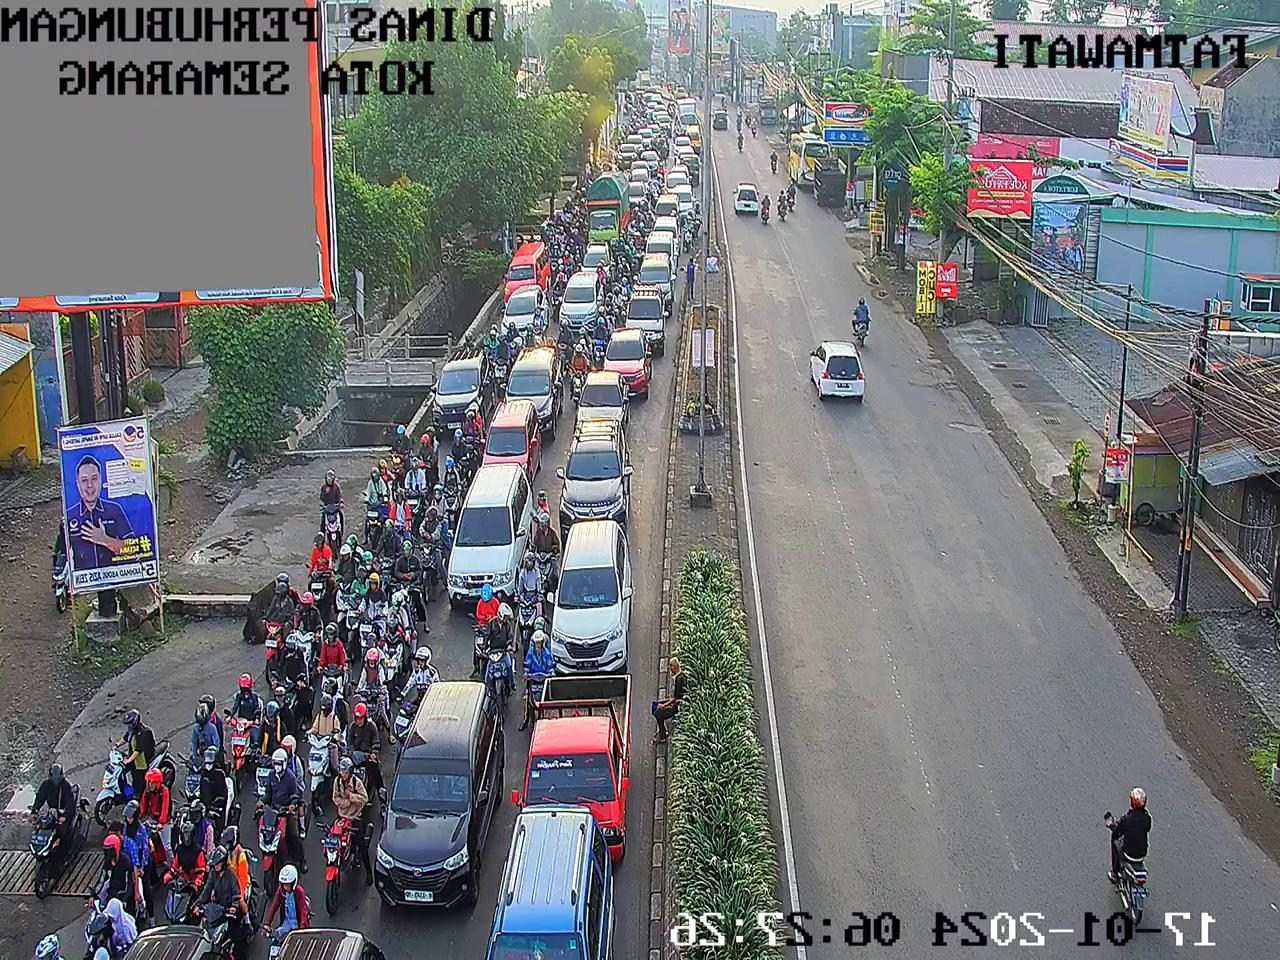car: (364, 676, 505, 910), (511, 668, 635, 862), (481, 797, 617, 960), (546, 521, 646, 667), (441, 464, 543, 598), (556, 416, 634, 530), (498, 341, 570, 428), (431, 341, 496, 424), (113, 922, 244, 960), (270, 922, 389, 960), (486, 395, 549, 460), (601, 324, 658, 394), (625, 282, 667, 352), (574, 372, 637, 418), (504, 241, 551, 302), (558, 268, 601, 329), (500, 284, 548, 334), (637, 253, 680, 306), (579, 242, 615, 278), (646, 231, 677, 260), (670, 183, 694, 215), (677, 151, 701, 183), (655, 192, 680, 217), (624, 177, 649, 200), (665, 166, 692, 187), (616, 142, 635, 169), (684, 123, 703, 150), (641, 148, 659, 176), (671, 133, 693, 155), (654, 216, 680, 233), (629, 163, 651, 179), (652, 113, 668, 131), (639, 128, 654, 146), (627, 134, 645, 147), (648, 91, 663, 99), (650, 103, 662, 111), (651, 123, 659, 132)
motorcycle: (91, 702, 177, 823), (79, 801, 151, 935), (252, 730, 310, 894), (25, 759, 90, 901), (317, 759, 373, 921), (389, 645, 444, 767), (180, 745, 246, 844), (160, 798, 212, 922), (210, 825, 259, 950), (181, 683, 227, 804), (259, 861, 312, 960), (304, 681, 345, 809), (260, 566, 300, 680), (137, 767, 181, 868), (517, 613, 554, 727), (479, 604, 519, 709), (254, 685, 291, 795), (384, 587, 422, 693), (79, 892, 137, 960), (229, 672, 261, 789), (516, 546, 542, 680), (347, 705, 382, 801), (465, 580, 500, 676), (354, 641, 388, 739), (289, 585, 330, 667), (288, 588, 321, 687), (345, 552, 376, 646), (330, 531, 362, 622), (362, 455, 394, 546), (276, 636, 309, 722), (532, 484, 558, 591), (357, 570, 389, 651), (418, 508, 445, 597), (318, 620, 349, 700), (392, 538, 422, 618), (319, 467, 347, 554), (305, 530, 331, 605), (413, 424, 444, 481), (50, 515, 69, 611), (402, 455, 429, 518), (438, 454, 464, 522), (388, 423, 410, 493), (491, 333, 514, 393), (29, 929, 73, 960), (430, 483, 451, 549), (461, 401, 483, 458), (570, 343, 590, 405), (556, 317, 577, 368), (452, 427, 470, 483), (592, 312, 611, 364), (549, 270, 567, 318), (551, 266, 568, 314), (573, 324, 592, 359), (484, 321, 502, 355), (633, 205, 648, 234), (693, 200, 706, 236), (560, 246, 579, 270), (565, 231, 580, 258), (628, 236, 640, 267), (535, 306, 545, 343), (614, 273, 632, 293), (682, 218, 693, 250), (615, 289, 626, 321), (508, 322, 523, 344), (565, 193, 574, 227), (523, 320, 536, 343), (545, 212, 556, 238), (648, 181, 660, 203), (601, 295, 615, 314), (571, 214, 583, 235), (613, 239, 624, 257), (464, 328, 473, 349), (621, 257, 632, 274), (598, 261, 606, 284), (646, 211, 655, 231), (656, 161, 665, 181), (658, 138, 666, 158), (578, 185, 586, 204), (553, 234, 559, 256), (557, 209, 563, 231), (612, 139, 622, 151), (625, 92, 632, 108), (604, 158, 614, 169), (628, 123, 638, 130), (622, 130, 628, 141), (632, 113, 639, 122), (644, 141, 651, 149), (670, 102, 674, 116), (620, 163, 626, 172), (636, 95, 641, 102), (641, 110, 646, 117), (635, 106, 640, 110), (643, 117, 646, 123)
truck: (587, 170, 629, 242), (676, 99, 695, 131)
